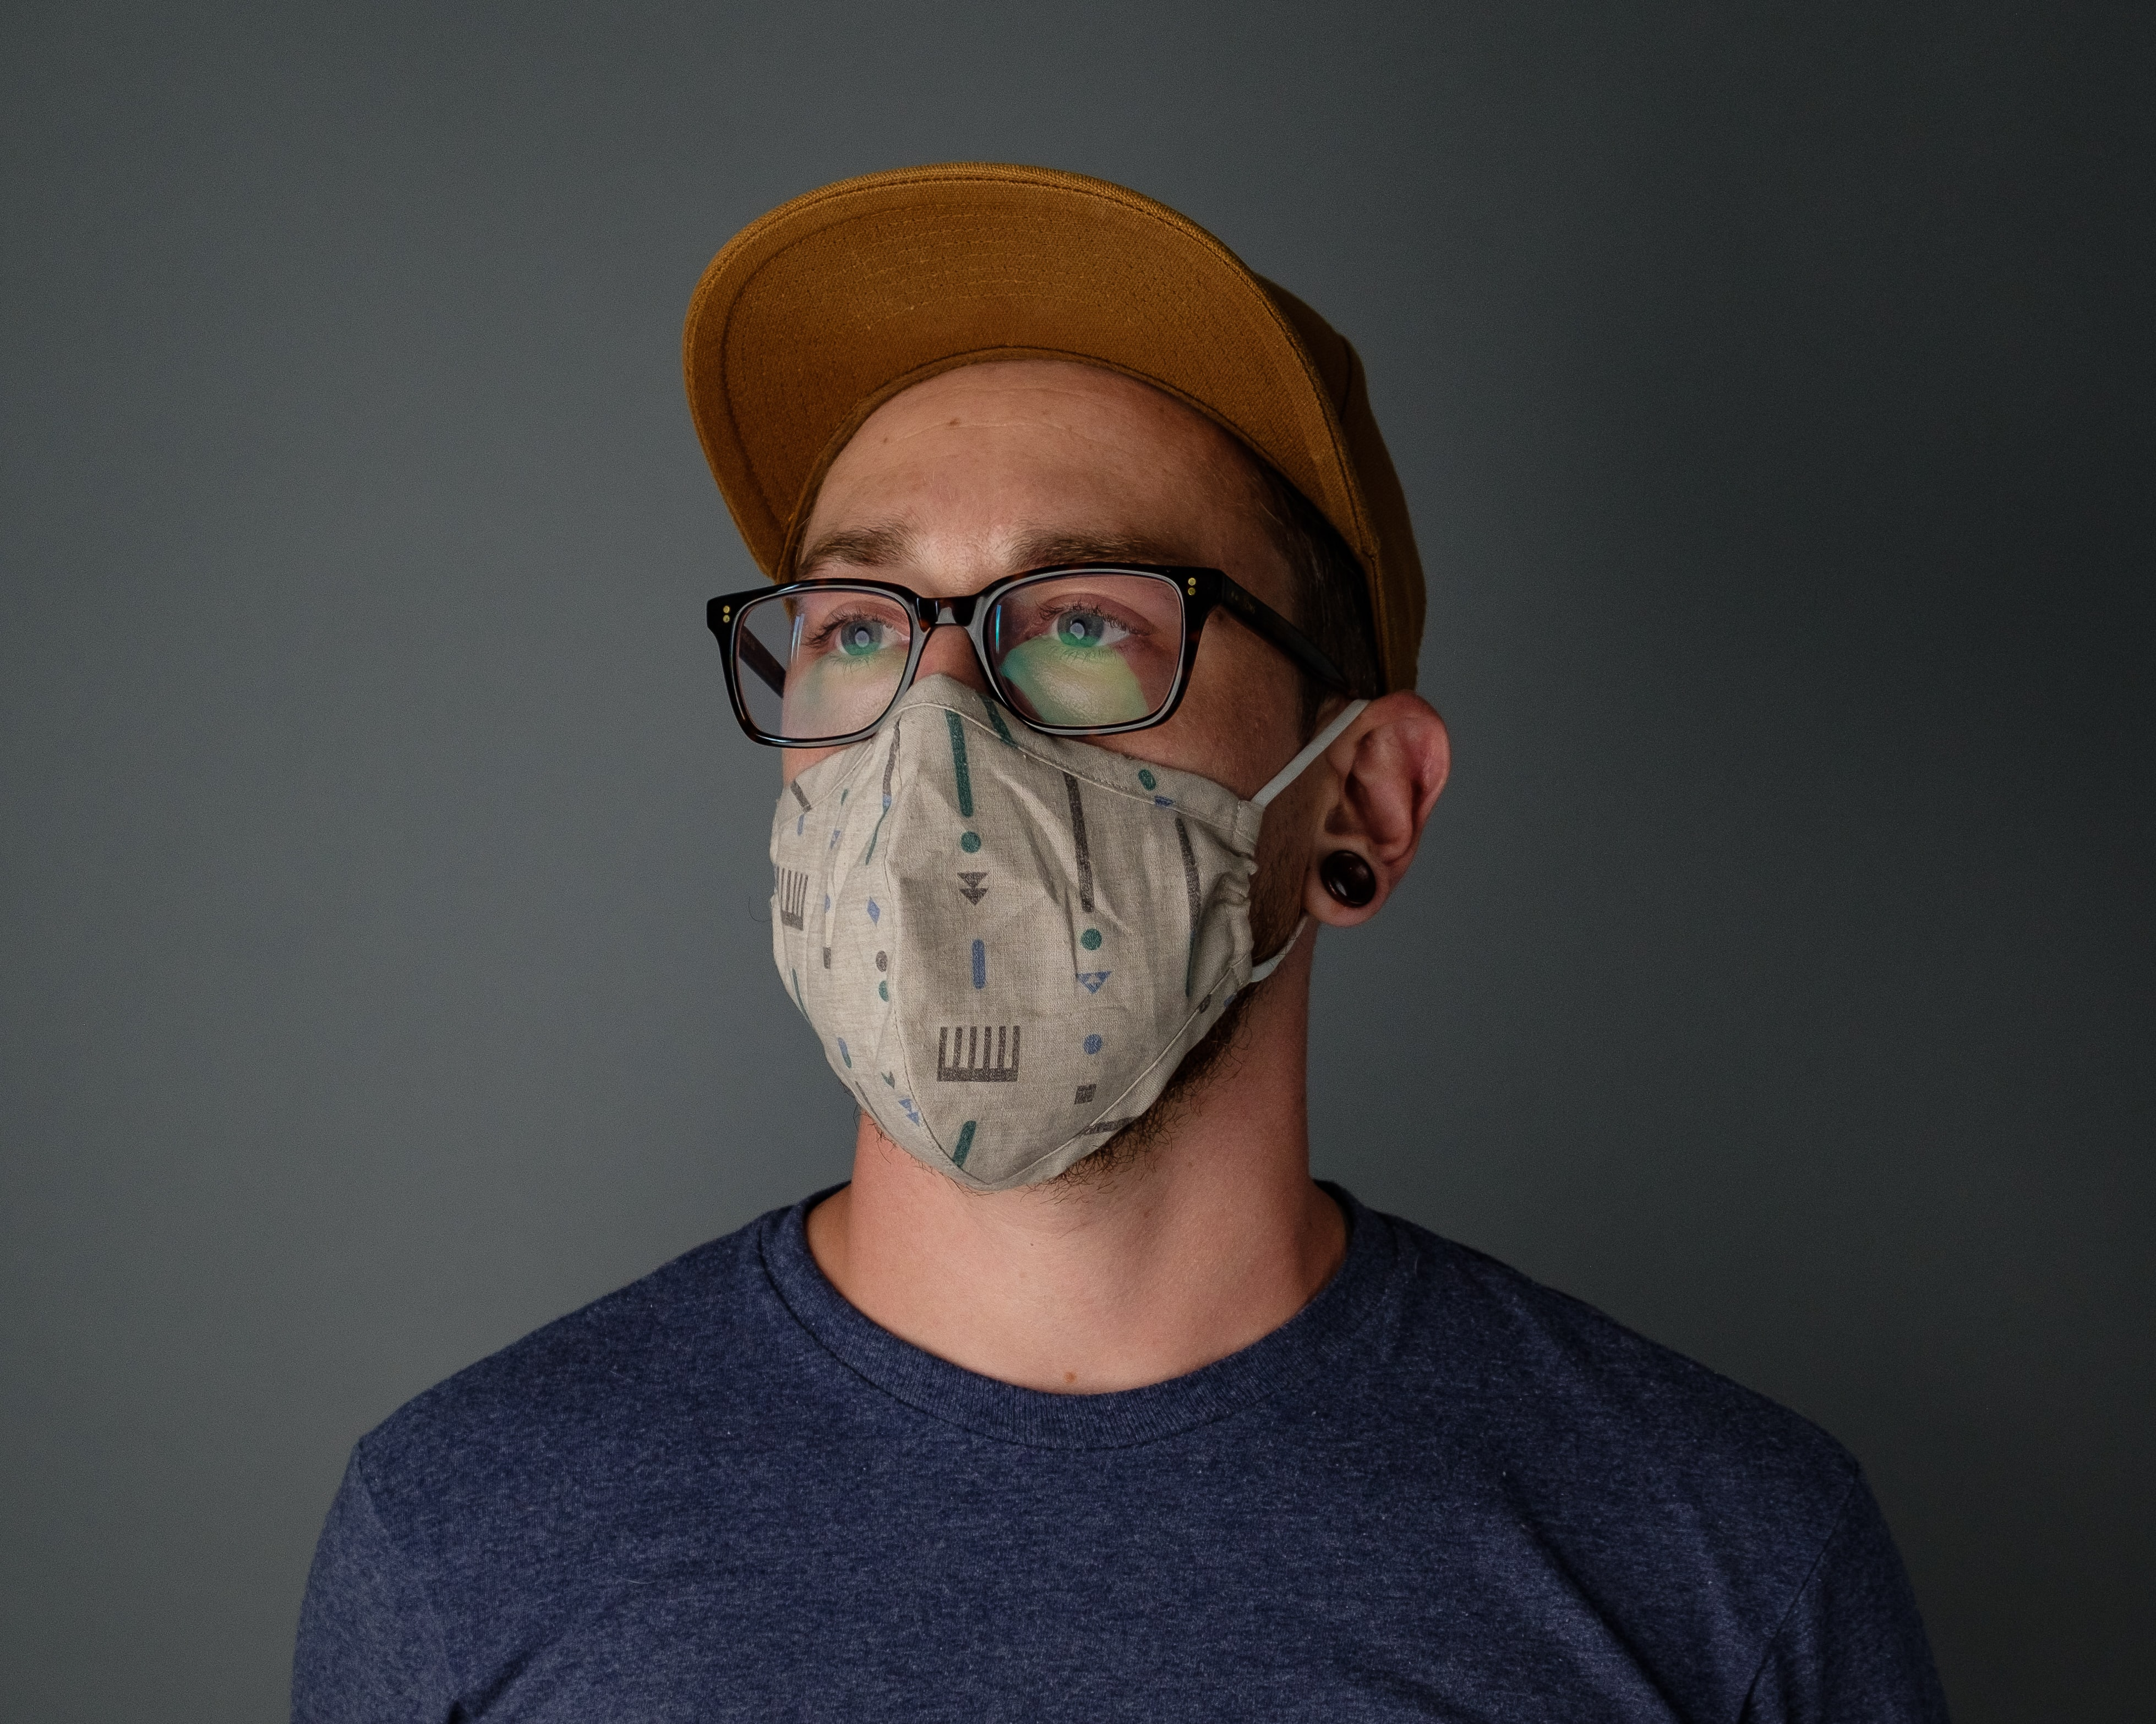mask: (732, 701, 1279, 1217)
person: (307, 240, 1937, 1724)
